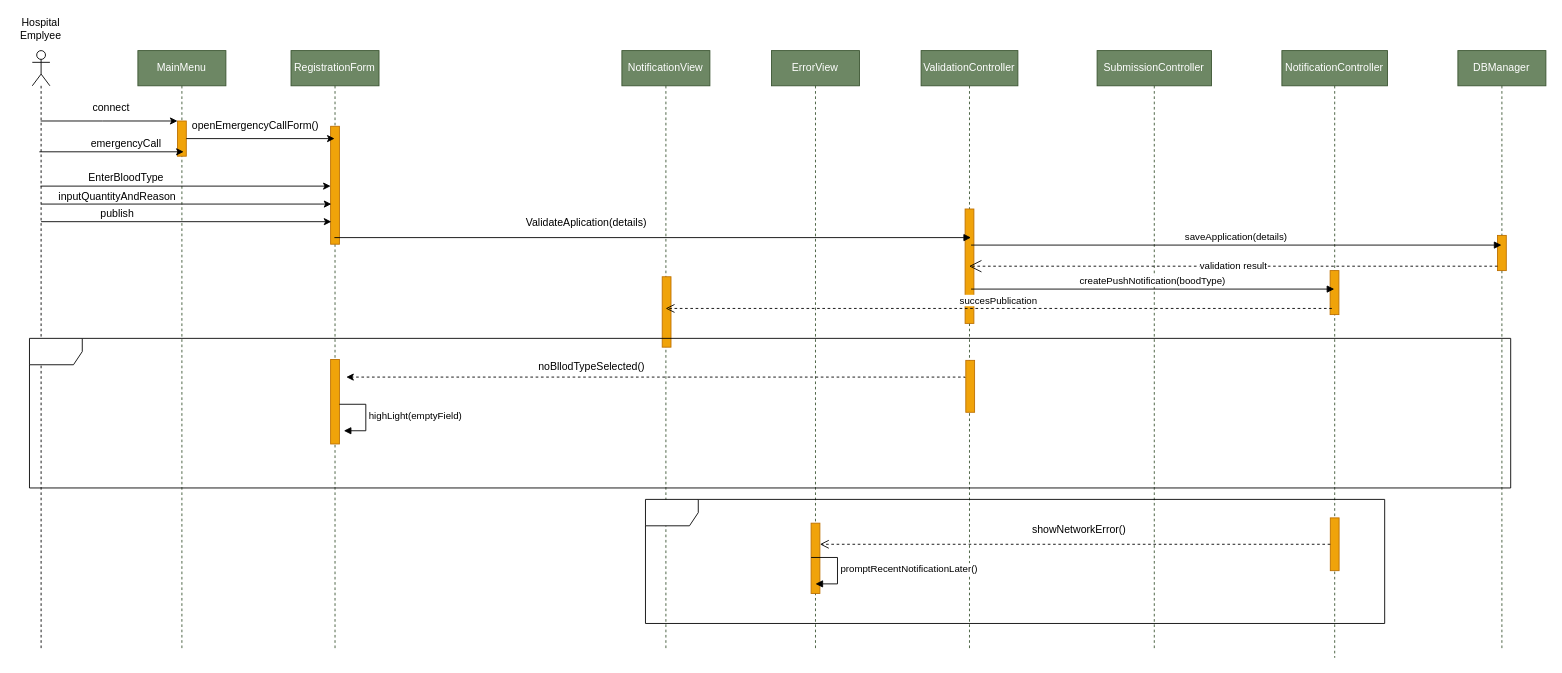
This 1562x673 diagram has some shape labels left out. The centre of each missing label's shape, as x and y in pixels:
"alt1" belongs at point (770, 412).
"alt2" belongs at point (1015, 561).
